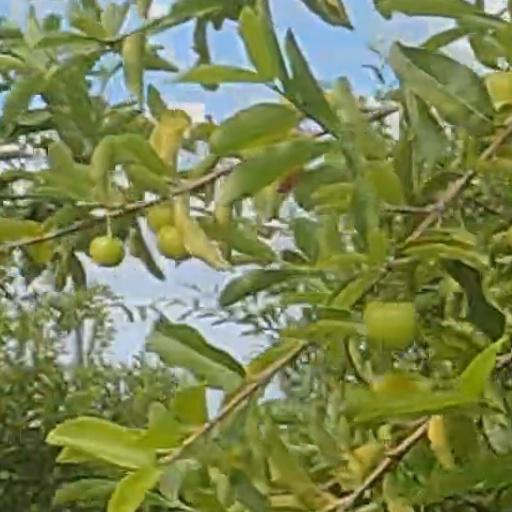acerola: (366, 303, 418, 349), (157, 229, 189, 261), (89, 235, 122, 265), (147, 204, 173, 228)
